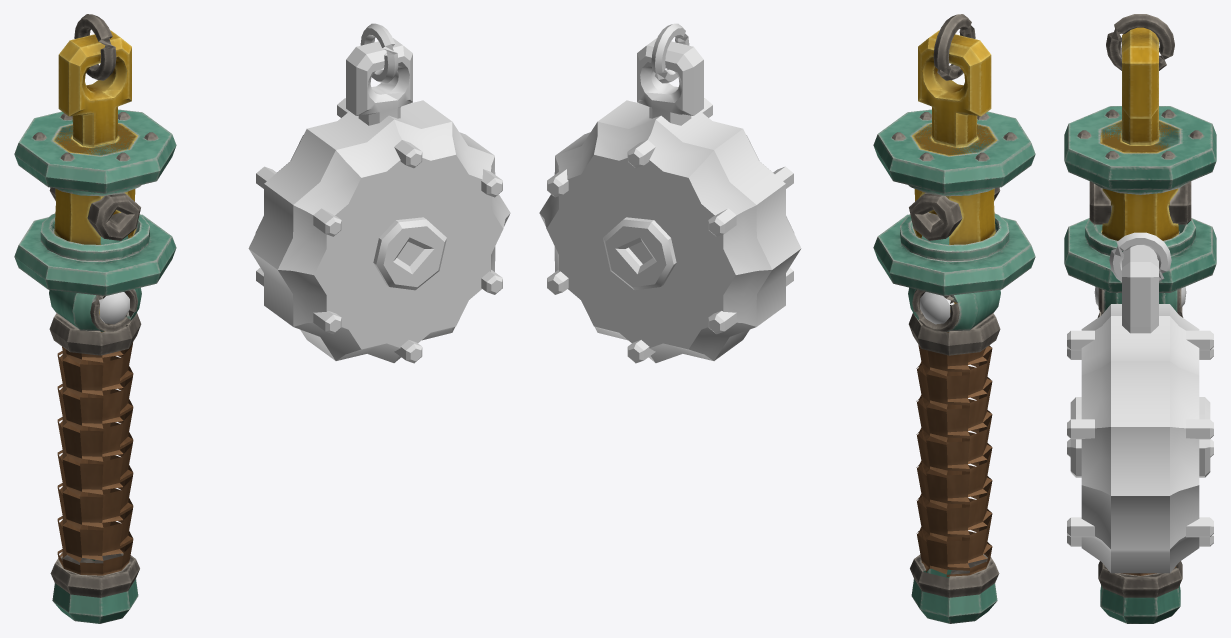
The model's file is Coffer Flail.fbx.
The picture shows the model from 3 angles, left to right: view 1: azimuth 30°, elevation 25°; view 2: azimuth 150°, elevation 25°; view 3: azimuth 270°, elevation 25°; orthographic projection.
Visible parts, largest first — view 1: Coffer Flail_Body, HeadWeight, TopLug.001, HeadBoss, TopRing.001, HeadRivet2, Coffer Flail_Glow, HeadRivet1; view 2: Coffer Flail_Body, HeadWeight, TopLug.001, HeadBoss, TopRing.001, HeadRivet2, Coffer Flail_Glow, HeadRivet1; view 3: Coffer Flail_Body, HeadWeight, TopLug.001, HeadBoss, TopRing.001, HeadRivet0, HeadRivet5, HeadRivet1, HeadRivet2, HeadRivet4.
Part boxes in pixels (box(x1,y1,x2,y2)): Coffer Flail_Body: box(14, 14, 176, 623); HeadWeight: box(248, 100, 510, 362); TopLug.001: box(346, 38, 412, 125); HeadBoss: box(373, 217, 446, 290); TopRing.001: box(360, 23, 398, 83); HeadRivet2: box(256, 166, 341, 236); Coffer Flail_Glow: box(99, 292, 129, 324); HeadRivet1: box(337, 98, 422, 168); Coffer Flail_Body: box(873, 14, 1035, 623); HeadWeight: box(539, 100, 801, 362); TopLug.001: box(637, 38, 703, 125); HeadBoss: box(603, 217, 676, 290); TopRing.001: box(651, 23, 689, 83); HeadRivet2: box(708, 166, 793, 236); Coffer Flail_Glow: box(920, 292, 954, 324); HeadRivet1: box(627, 98, 712, 168); Coffer Flail_Body: box(1064, 14, 1216, 623); HeadWeight: box(1081, 304, 1199, 573); TopLug.001: box(1122, 245, 1158, 333); HeadBoss: box(1070, 397, 1210, 477); TopRing.001: box(1109, 232, 1171, 282); HeadRivet0: box(1067, 419, 1213, 439); HeadRivet5: box(1067, 517, 1213, 537); HeadRivet1: box(1067, 330, 1213, 350); HeadRivet2: box(1067, 347, 1213, 359); HeadRivet4: box(1067, 534, 1213, 546).
Size of the model in its own units: 1.48 by 1.8 by 0.4148.
